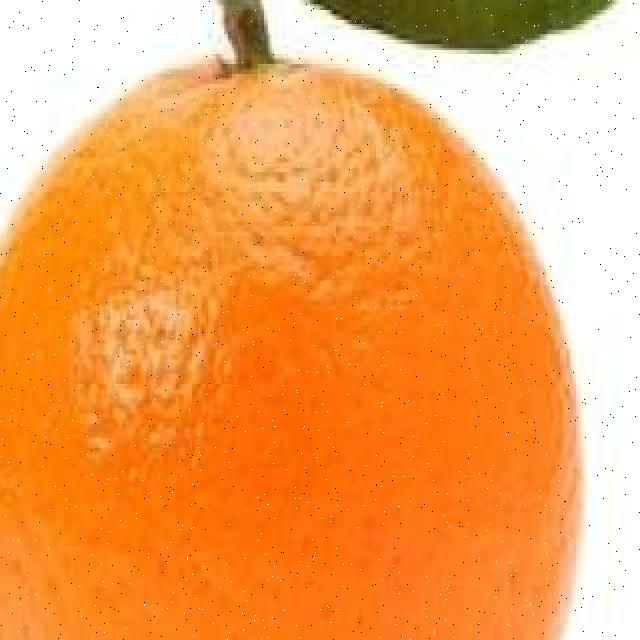orange: (0, 48, 586, 640)
